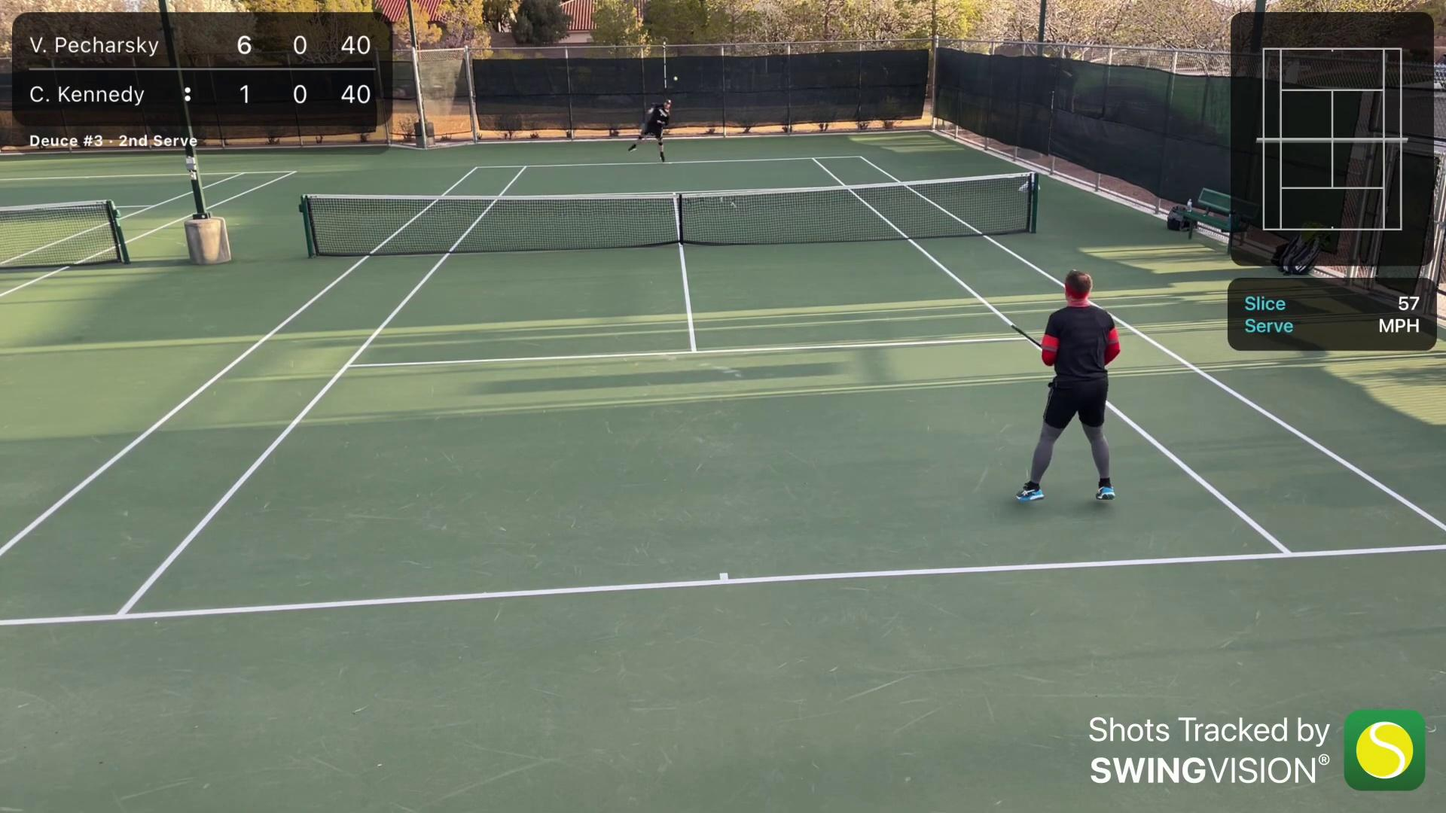ball: (672, 76, 679, 83)
